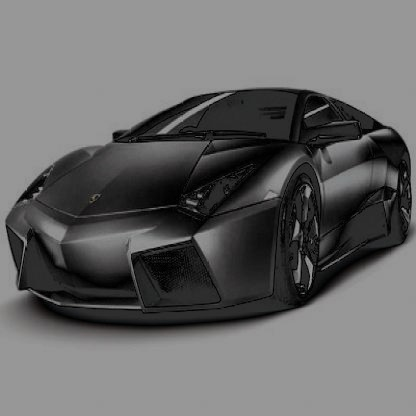Vehicle: (6, 90, 414, 316)
